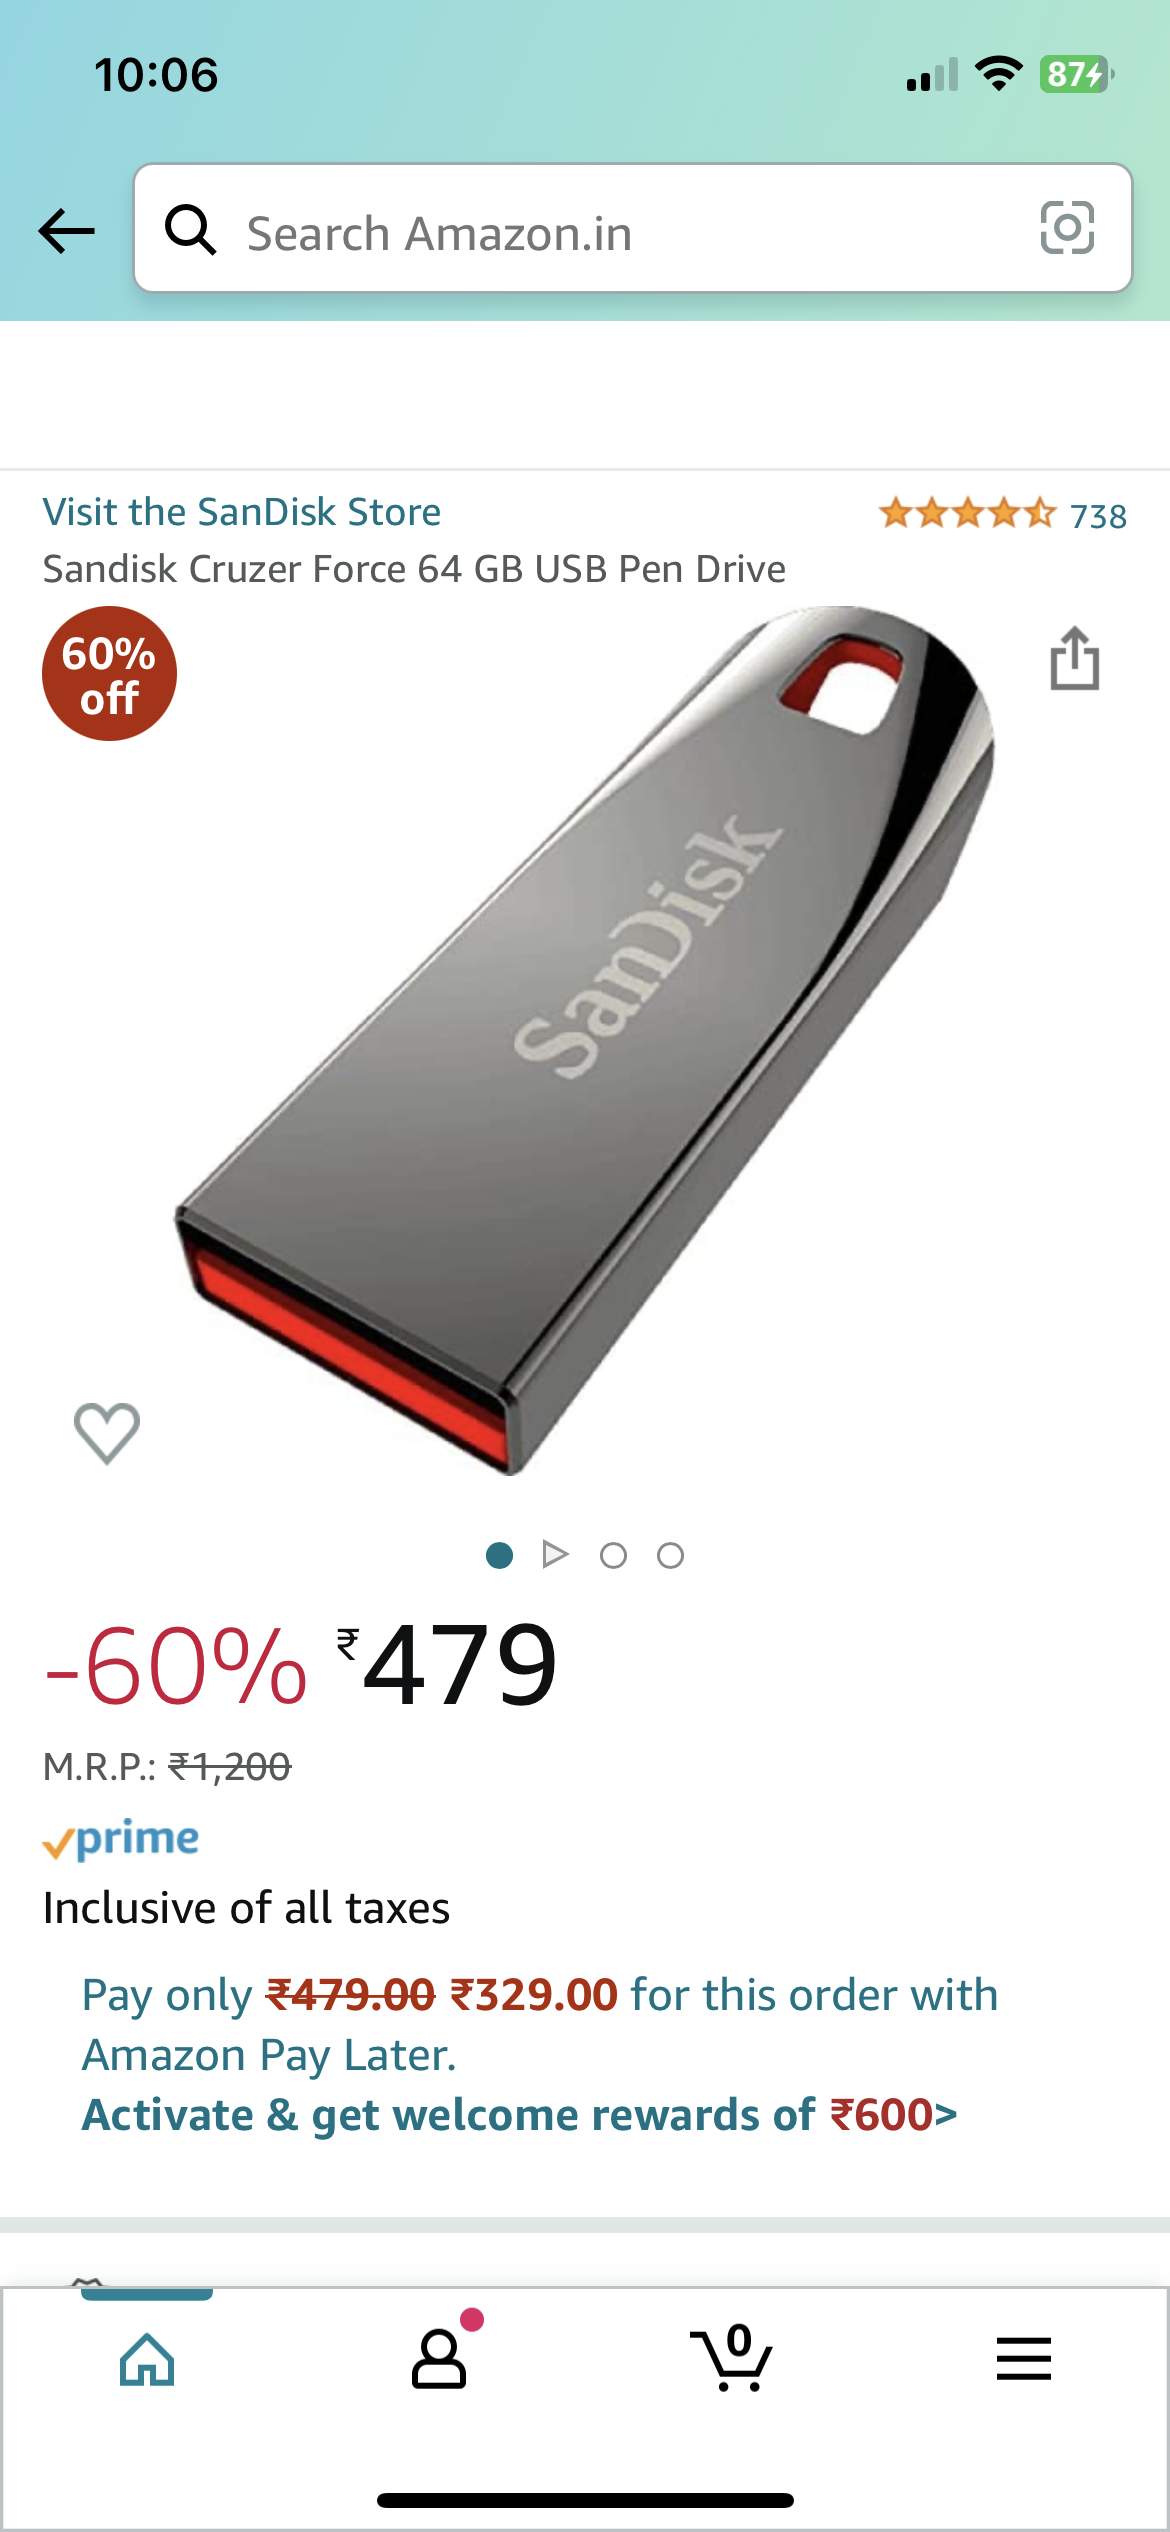PenDrive: (169, 593, 1010, 1492)
